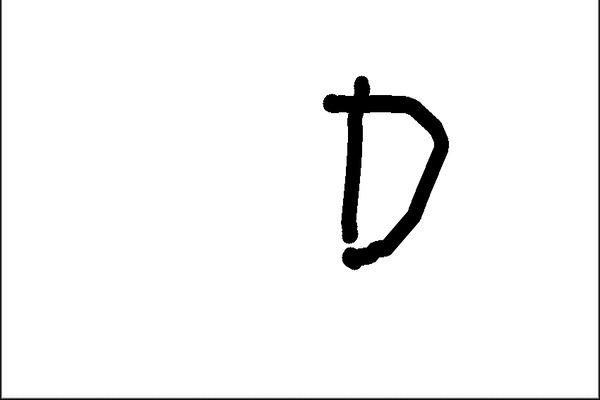D: (318, 71, 450, 275)
